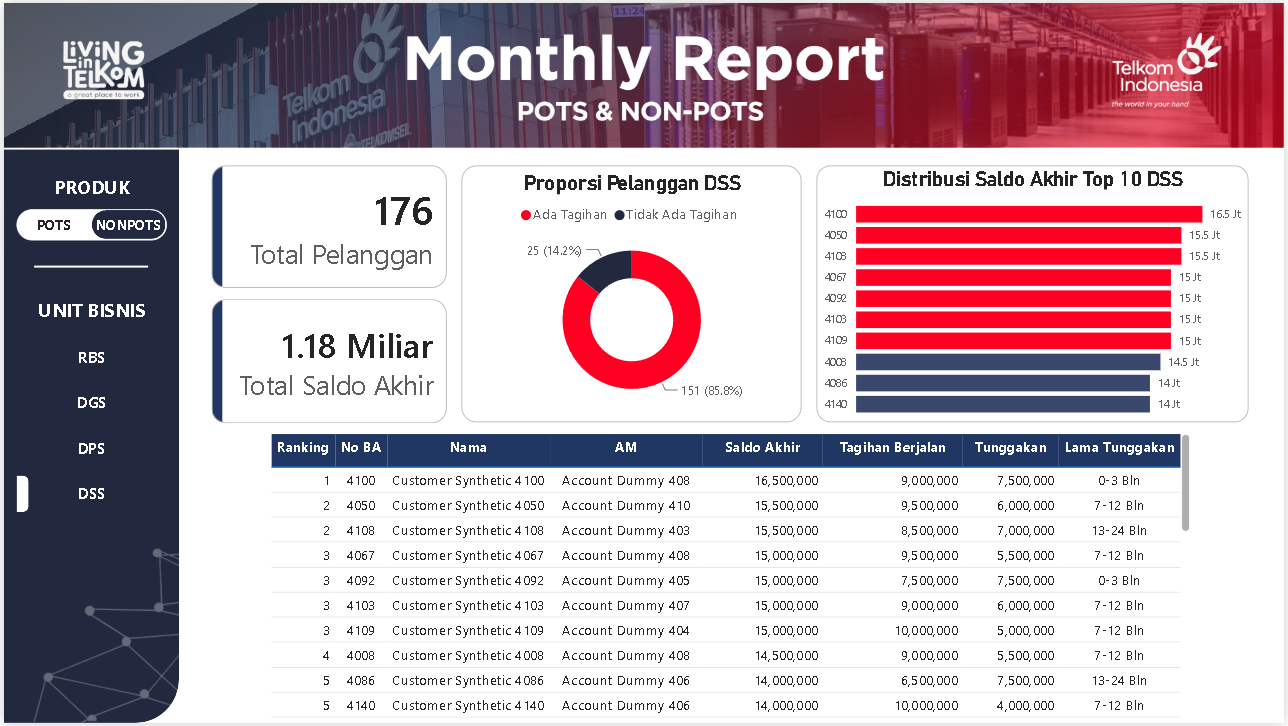

What the dashboard file says about the page in this screenshot:
{"tool":"powerbi","page":{"name":"NONPOTS","canvas":[1280,720],"ordinal":1},"visuals":[{"type":"shape","box":[0,146.2,175,573.8],"z":0},{"type":"image","box":[4.4,412.5,190,307.5],"z":1000},{"type":"pageNavigator","box":[12.1,206,150,31.4],"z":2000},{"type":"shape","box":[30,242.2,114.4,42.2],"z":3000},{"type":"textbox","box":[6.2,288.8,162.5,36.2],"z":4000},{"type":"textbox","box":[6.2,166.2,163.1,36.9],"z":5000},{"type":"actionButton","box":[12.6,330.9,150,45.7],"z":6000},{"type":"actionButton","box":[12.6,376.5,150,45.7],"z":7000},{"type":"actionButton","box":[12.7,422.3,150,45.7],"z":10000},{"type":"actionButton","box":[12.9,468.1,150,45.7],"z":12000},{"type":"shape","box":[12.9,472.4,12.4,36.7],"z":13000},{"type":"tableEx","title":"Tabel DSS","fields":{"Values":["NONPOTS.Ranking","NONPOTS.IDNumber","DETAIL NONPOTS.NAMA","DETAIL NONPOTS.AM","NONPOTS.Saldo Akhir","Sum(NONPOTS.Tagihan N)","NONPOTS.Tunggakan","NONPOTS.Lama Tunggakan"]},"box":[261.7,426.7,930,293.3],"z":21000},{"type":"donutChart","title":"Proporsi Pelanggan DSS","fields":{"Category":["NONPOTS.Kategori Saldo"],"Y":["CountNonNull(NONPOTS.Kategori Saldo)"]},"box":[456.9,163.1,340,256.7],"z":27000},{"type":"cardVisual","title":"Card Pelanggan DSS","fields":{"Data":["CountNonNull(NONPOTS.IDNumber)"]},"box":[206.9,162.3,235.7,122.9],"z":28000},{"type":"cardVisual","title":"Card Saldo DSS","fields":{"Data":["NONPOTS.DSS Total Saldo Akhir Display"]},"box":[206.9,296.2,235.7,124.3],"z":29000},{"type":"clusteredBarChart","title":"Distribusi Saldo Akhir Top 10 DSS","fields":{"Category":["NONPOTS.IDNumber"],"Y":["Sum(NONPOTS.Saldo Akhir)"]},"box":[813.1,163.1,432.3,256.9],"z":30000}]}

Visuals, with their boxes in screenshot pixels (x1, y1, x2, y2), scaled from the page's 1280x720 canvas onto the 1288x726 screenshot:
shape: box(0, 147, 176, 725)
image: box(4, 416, 196, 725)
pageNavigator: box(12, 208, 163, 239)
shape: box(30, 244, 145, 287)
textbox: box(6, 291, 170, 328)
textbox: box(6, 168, 170, 205)
actionButton: box(13, 334, 164, 380)
actionButton: box(13, 380, 164, 426)
actionButton: box(13, 426, 164, 472)
actionButton: box(13, 472, 164, 518)
shape: box(13, 476, 25, 513)
"Tabel DSS" tableEx: box(263, 430, 1199, 725)
"Proporsi Pelanggan DSS" donutChart: box(460, 164, 802, 423)
"Card Pelanggan DSS" cardVisual: box(208, 164, 445, 288)
"Card Saldo DSS" cardVisual: box(208, 299, 445, 424)
"Distribusi Saldo Akhir Top 10 DSS" clusteredBarChart: box(818, 164, 1253, 424)
